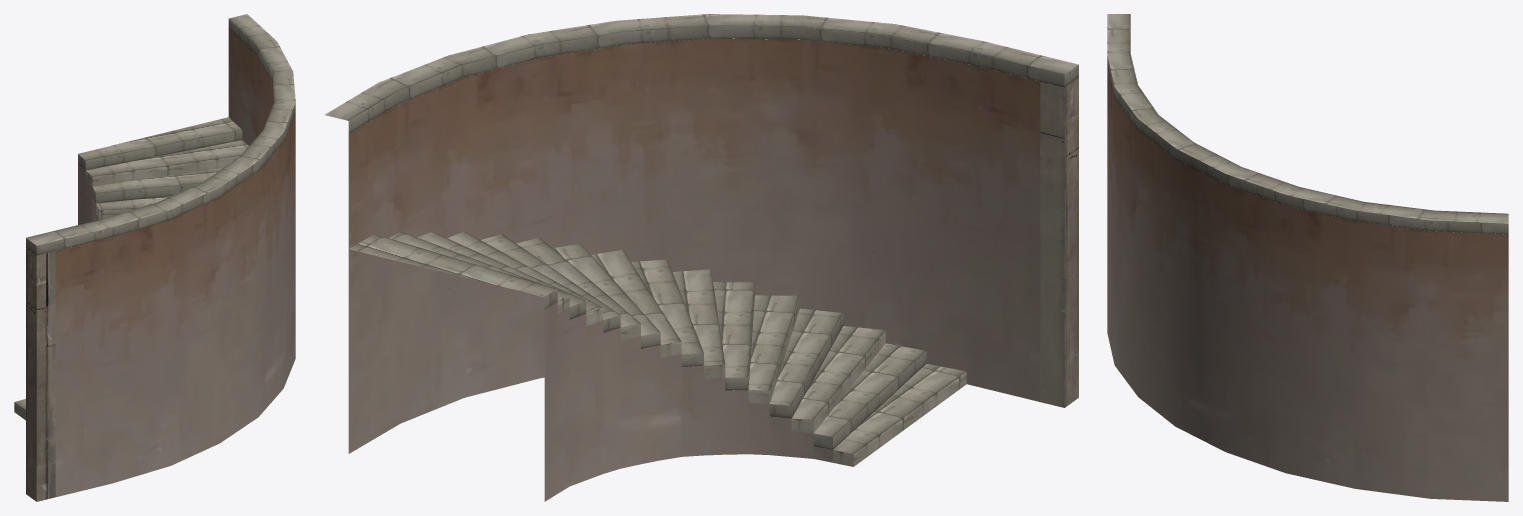
3 renders of one model, left to right at view 1: azimuth 30°, elevation 25°; view 2: azimuth 150°, elevation 25°; view 3: azimuth 270°, elevation 25°, orthographic. The views are drawn at different scales.
Parts seen in each view (by area): view 1: body0_model0_lod0_mesh2, body0_model0_lod0_mesh0, body0_model0_lod0_mesh1; view 2: body0_model0_lod0_mesh2, body0_model0_lod0_mesh0, body0_model0_lod0_mesh1; view 3: body0_model0_lod0_mesh2, body0_model0_lod0_mesh0.
Part boxes in pixels (box(x1,y1,x2,y2)): body0_model0_lod0_mesh2: box(55, 29, 295, 496); body0_model0_lod0_mesh0: box(14, 14, 295, 420); body0_model0_lod0_mesh1: box(26, 248, 55, 501); body0_model0_lod0_mesh2: box(348, 38, 1040, 501); body0_model0_lod0_mesh0: box(324, 14, 1078, 466); body0_model0_lod0_mesh1: box(1040, 77, 1078, 407); body0_model0_lod0_mesh2: box(1107, 66, 1508, 501); body0_model0_lod0_mesh0: box(1107, 14, 1508, 234).
Bounding box in the file's own units: 336 × 208 × 272.
Materials: 3 (3 with a texture image).
